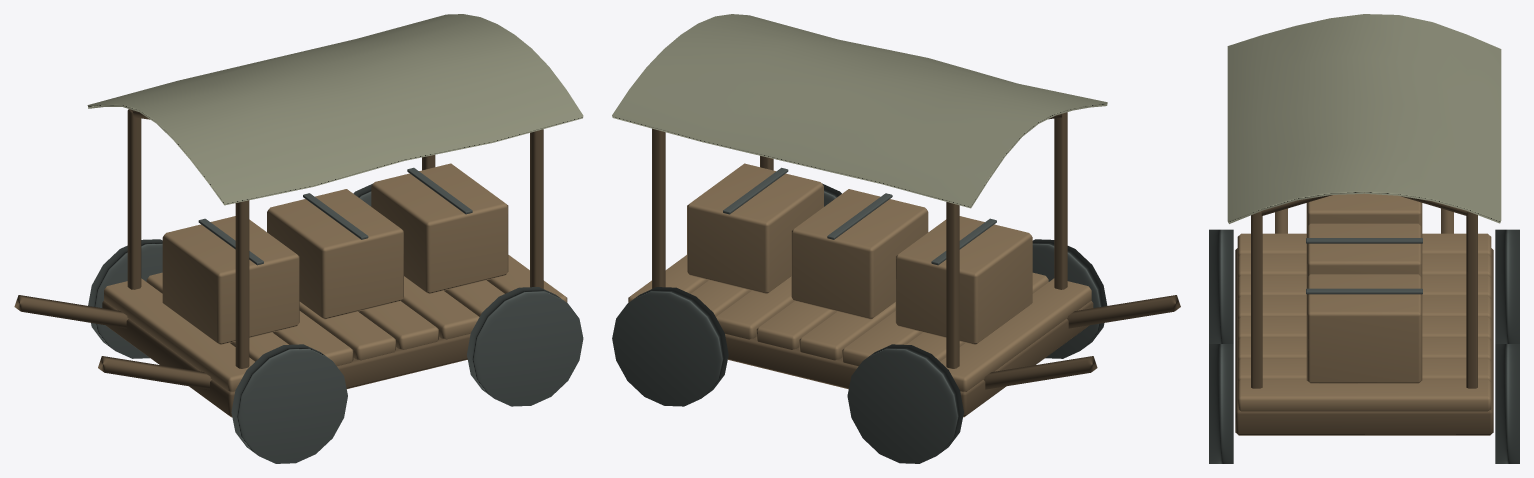
File: MerchantCart02.fbx
The picture shows the model from 3 angles, left to right: view 1: azimuth 30°, elevation 25°; view 2: azimuth 150°, elevation 25°; view 3: azimuth 270°, elevation 25°; orthographic projection.
Visible parts, largest first — view 1: MerchantCart02; view 2: MerchantCart02; view 3: MerchantCart02.
Part boxes in pixels (<box>): MerchantCart02: <box>14,14,583,463</box>; MerchantCart02: <box>612,14,1180,463</box>; MerchantCart02: <box>1209,14,1519,463</box>.
Bounding box in the file's own units: 341 × 216 × 202.
